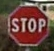stop: (6, 3, 49, 46)
